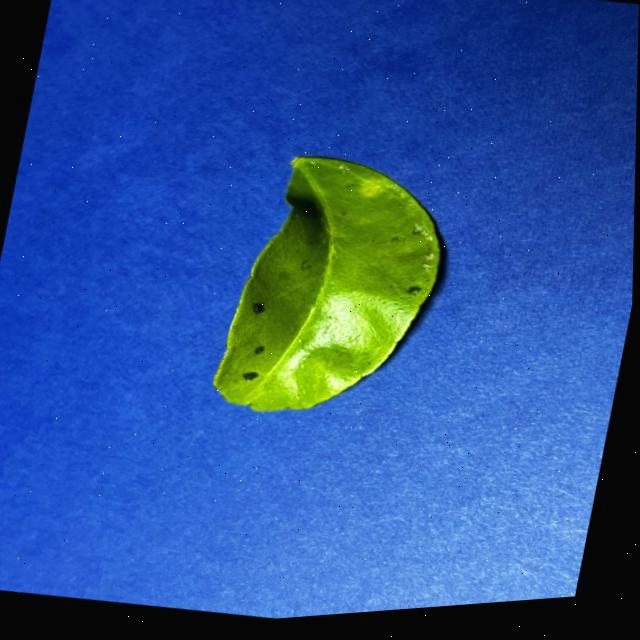sooty_mold: (214, 157, 439, 410)
